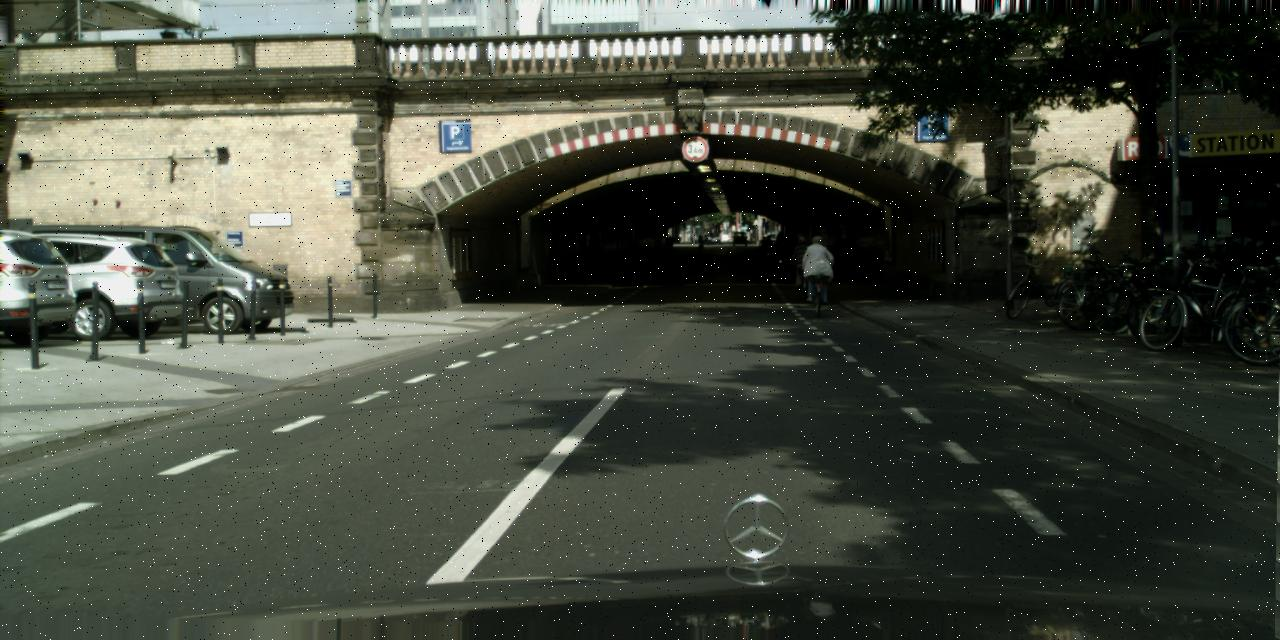ped: (803, 235, 831, 303), (793, 235, 814, 288), (587, 237, 601, 274), (790, 231, 799, 255), (780, 232, 789, 255), (764, 236, 772, 255), (772, 241, 779, 261), (667, 234, 674, 252), (776, 231, 783, 249), (760, 235, 766, 249), (697, 234, 702, 246)
